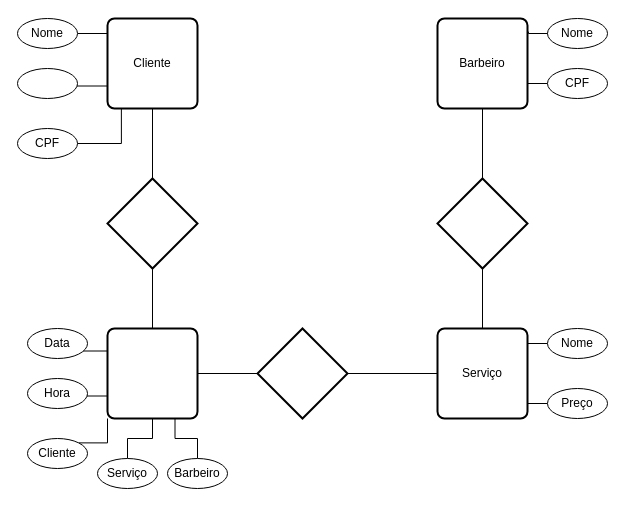
This 625x506 diagram has some shape labels left out. The centre of each missing label's shape, as x and y in pixels:
"Agendamento" belongs at point 152,373.
"Executa" belongs at point 482,223.
"Faz" belongs at point 152,223.
"Recebe" belongs at point 302,373.
"Telefone" belongs at point 47,83.
